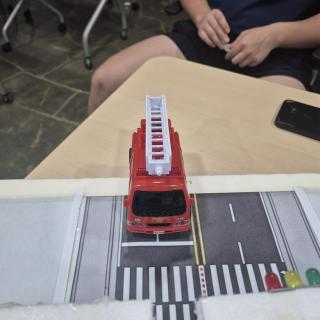Fire_truck: (123, 95, 194, 234)
